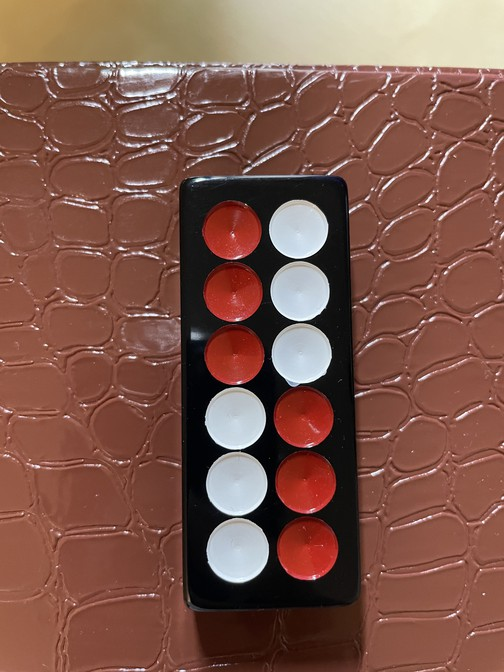heaven: (180, 176, 359, 612)
